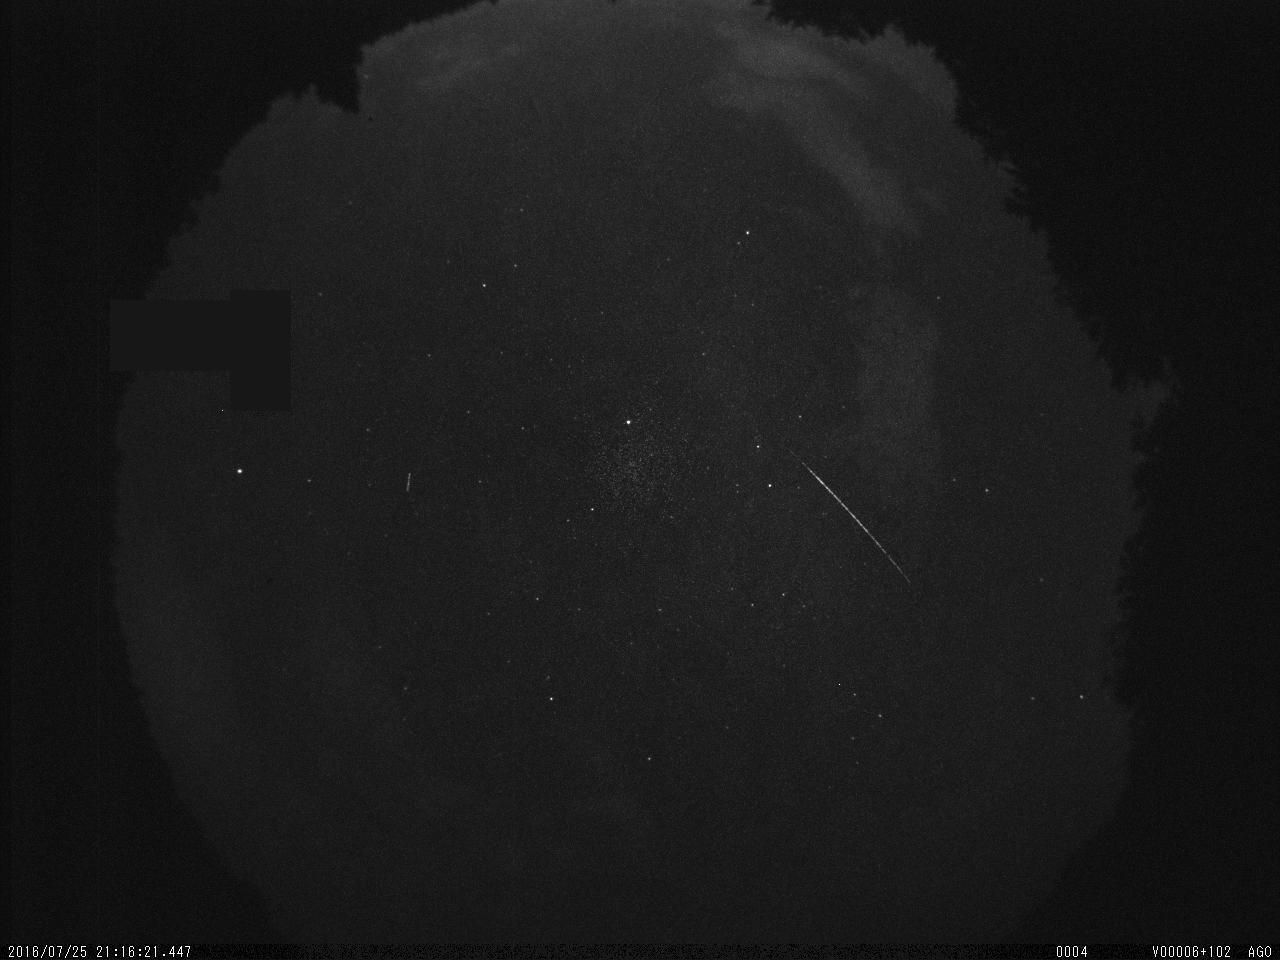meteor: (772, 412, 941, 631)
